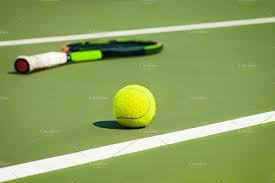tennis_ball: (112, 83, 156, 131)
